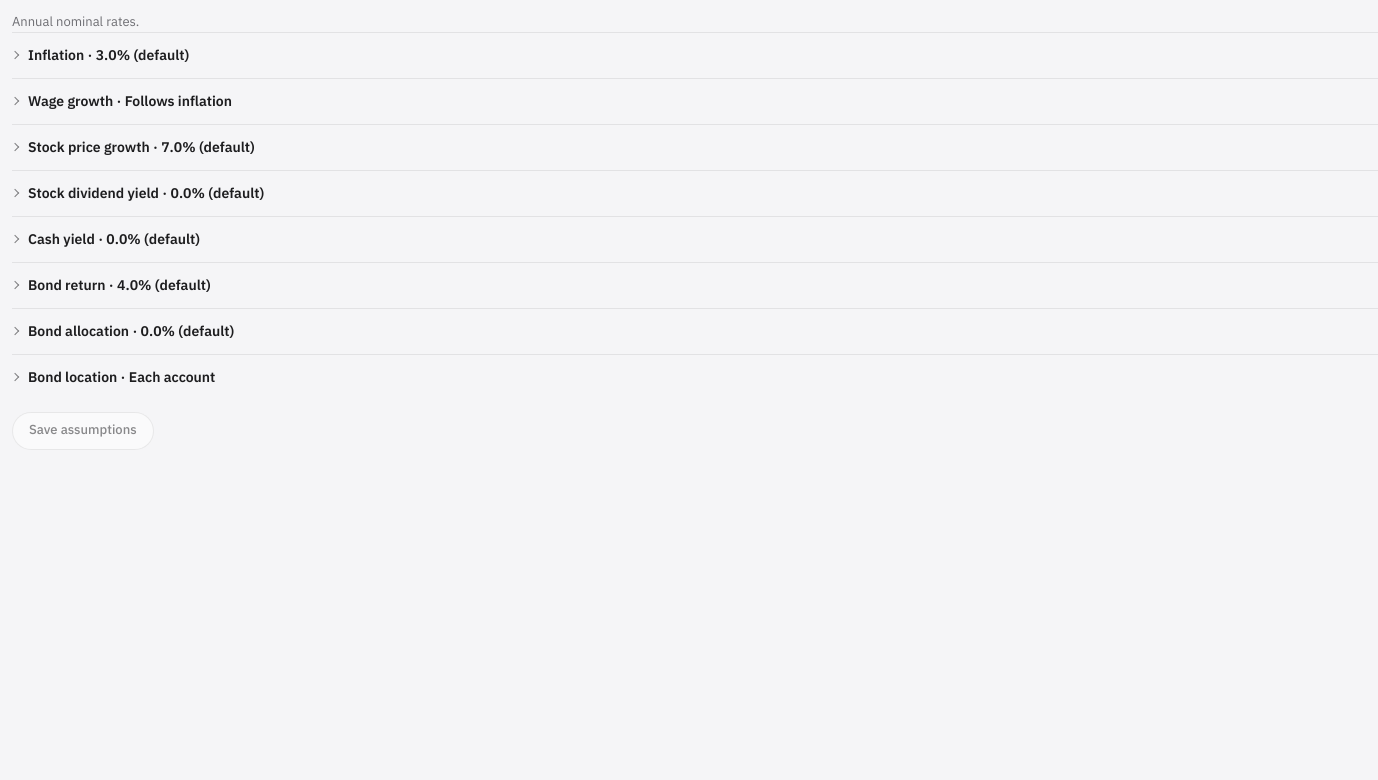
Test case: saves nothing while a collapsed row is invalid, and opens that row to show why
Click the heading "Stock price growth · 7.0% (default)". click: (141,146)
box: [28,138,255,156]
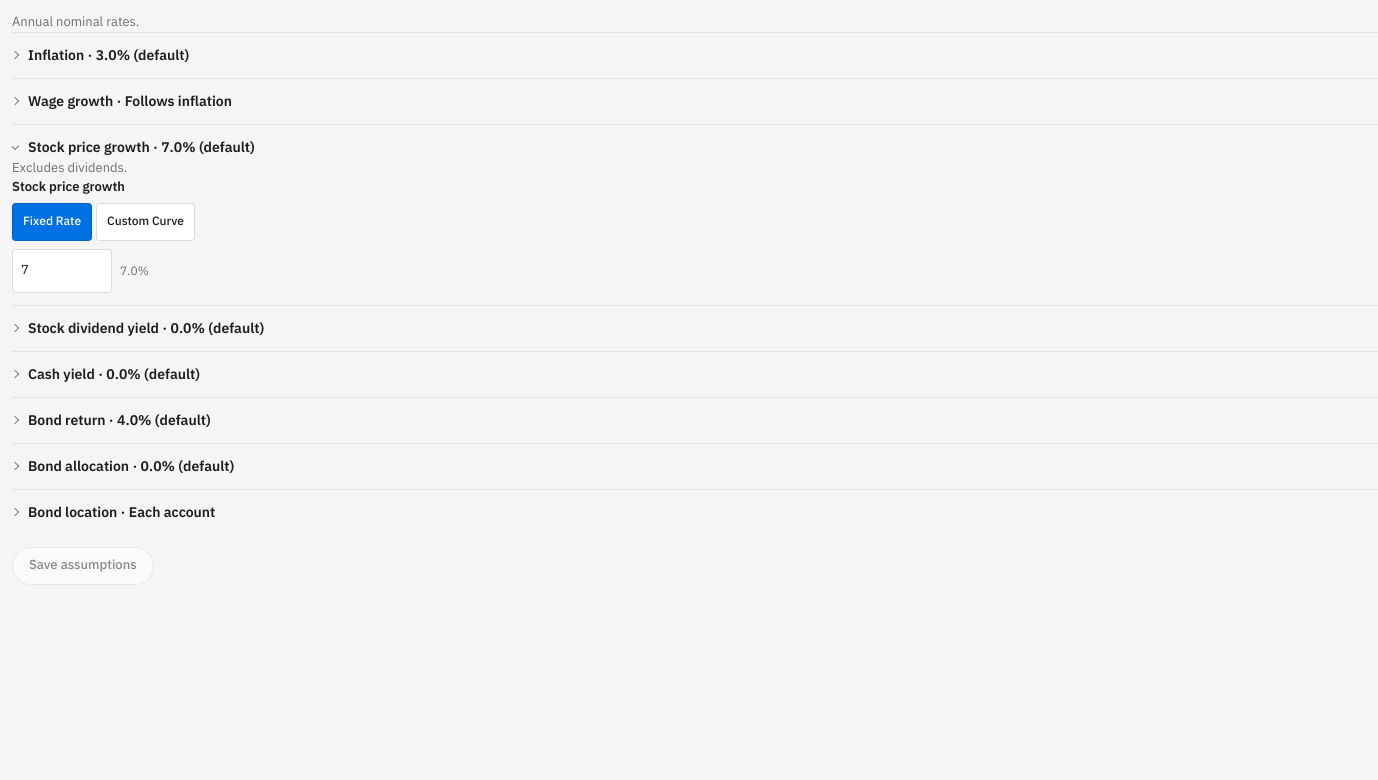
Replace the text in the number field named "Stock price growth percent" with "500". click: (62,270)
box: [12,248,112,292]
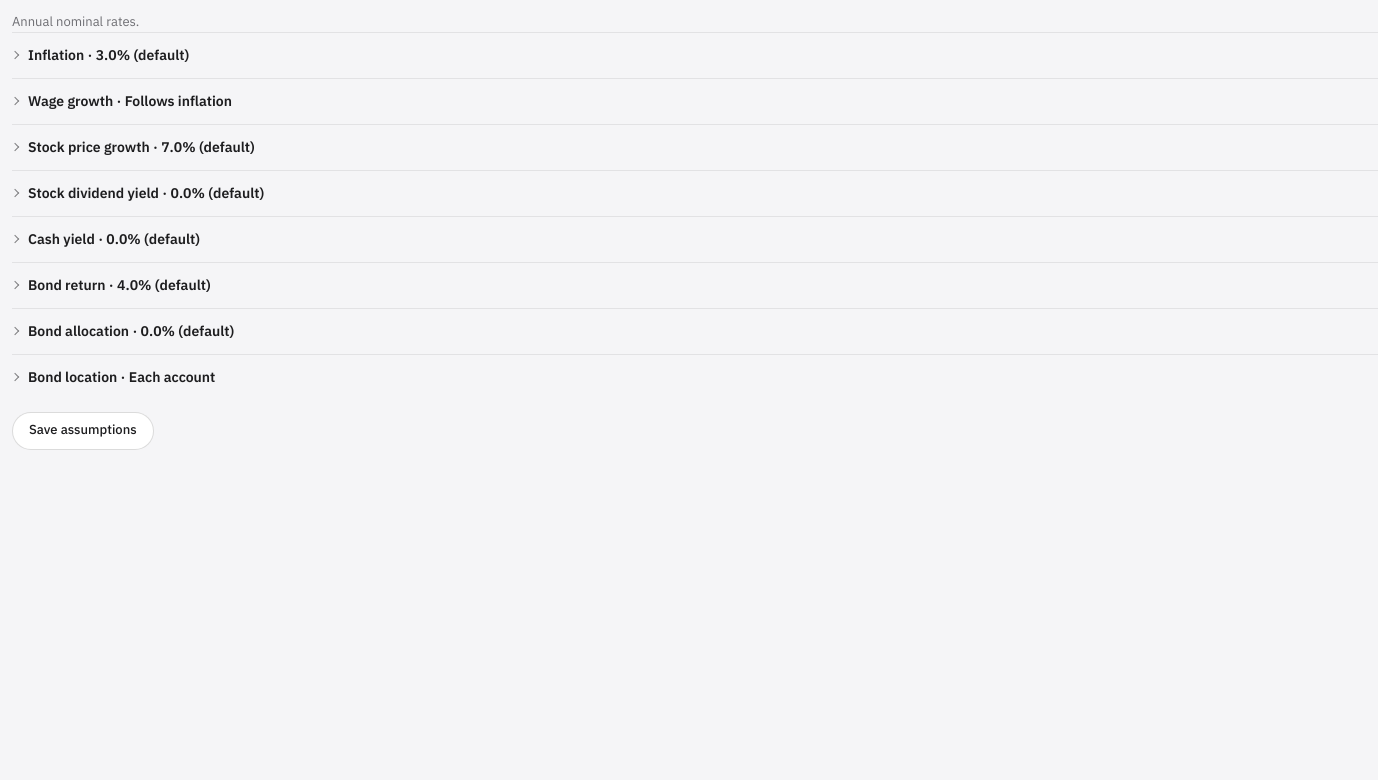
Click the heading "Inflation · 3.0% (default)". click: (109,54)
box: [28,46,189,64]
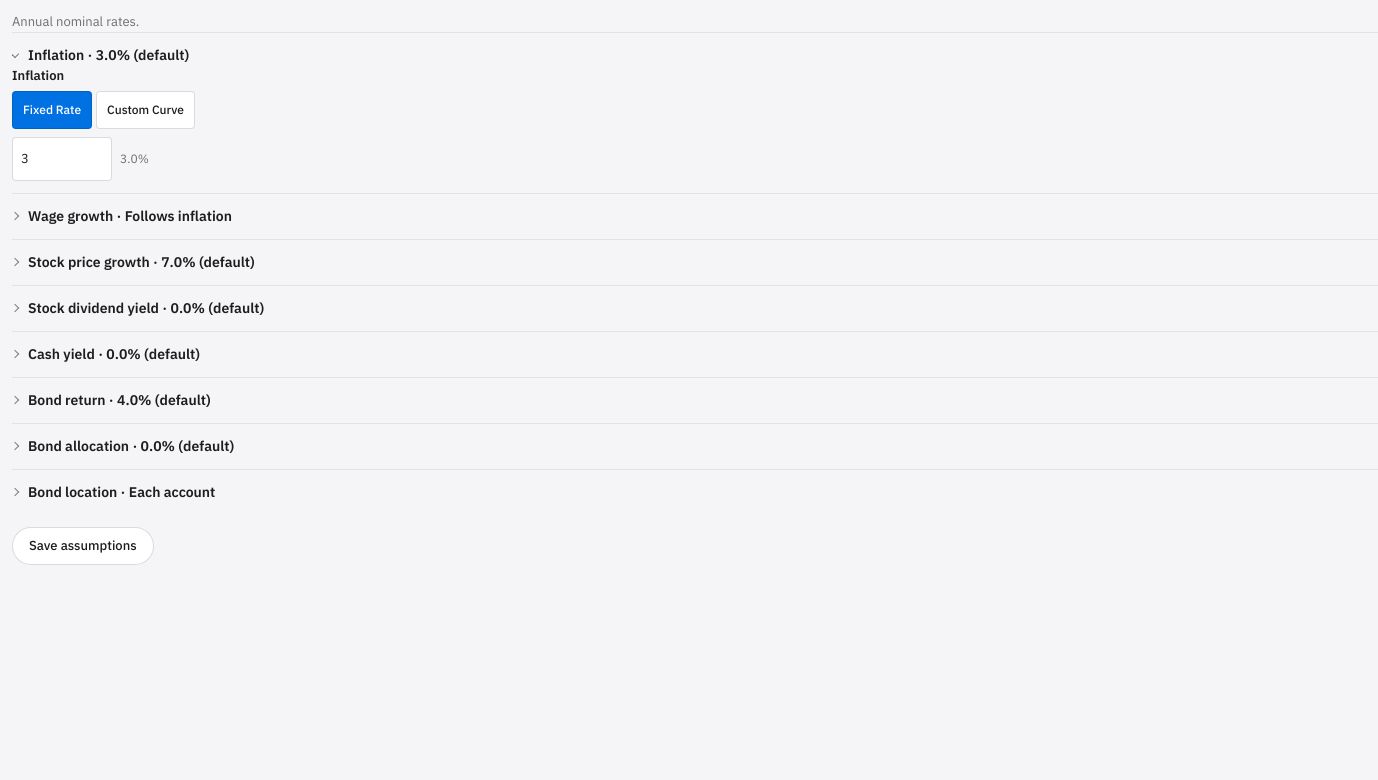
Replace the text in the number field named "Inflation percent" with "60". click: (62,159)
box: [12,137,112,181]
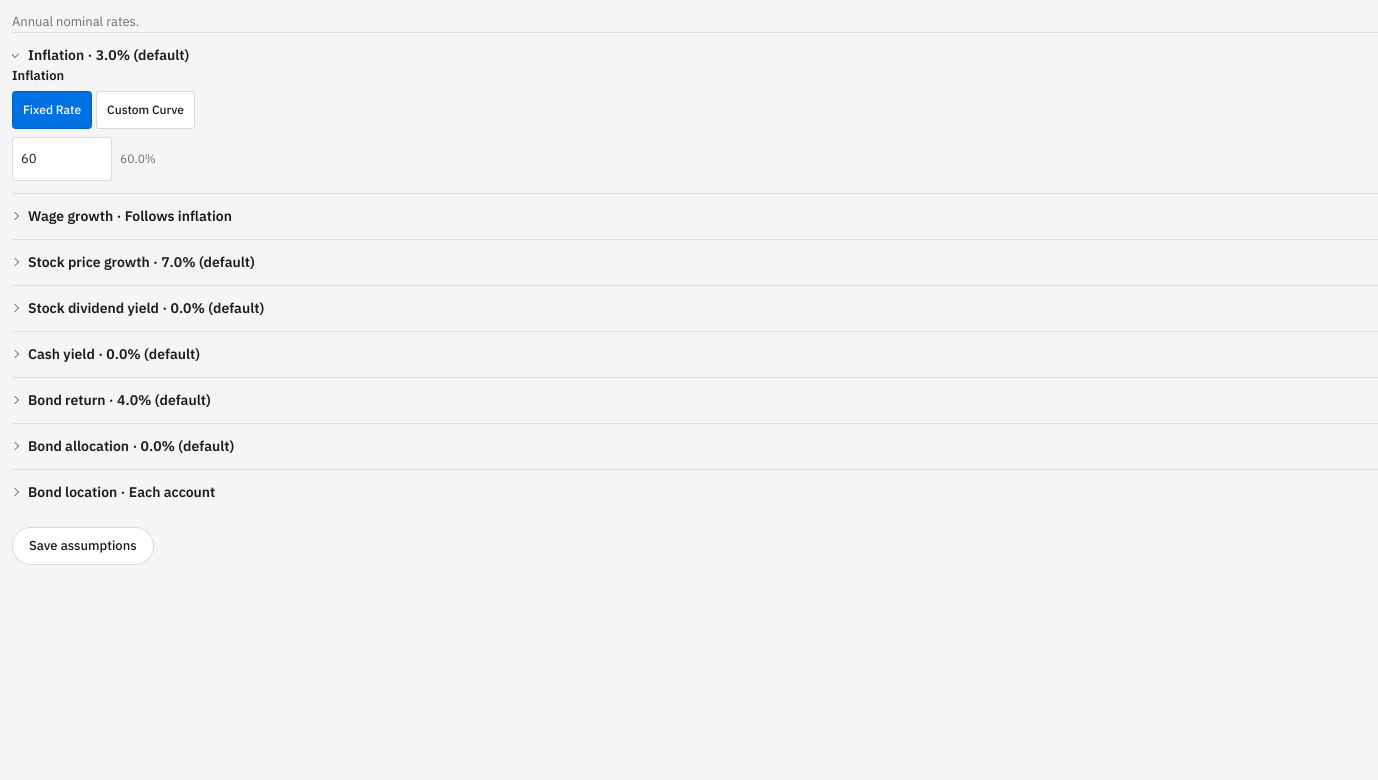
Click the button "Save assumptions". click: (83,546)
box: [12,527,154,565]
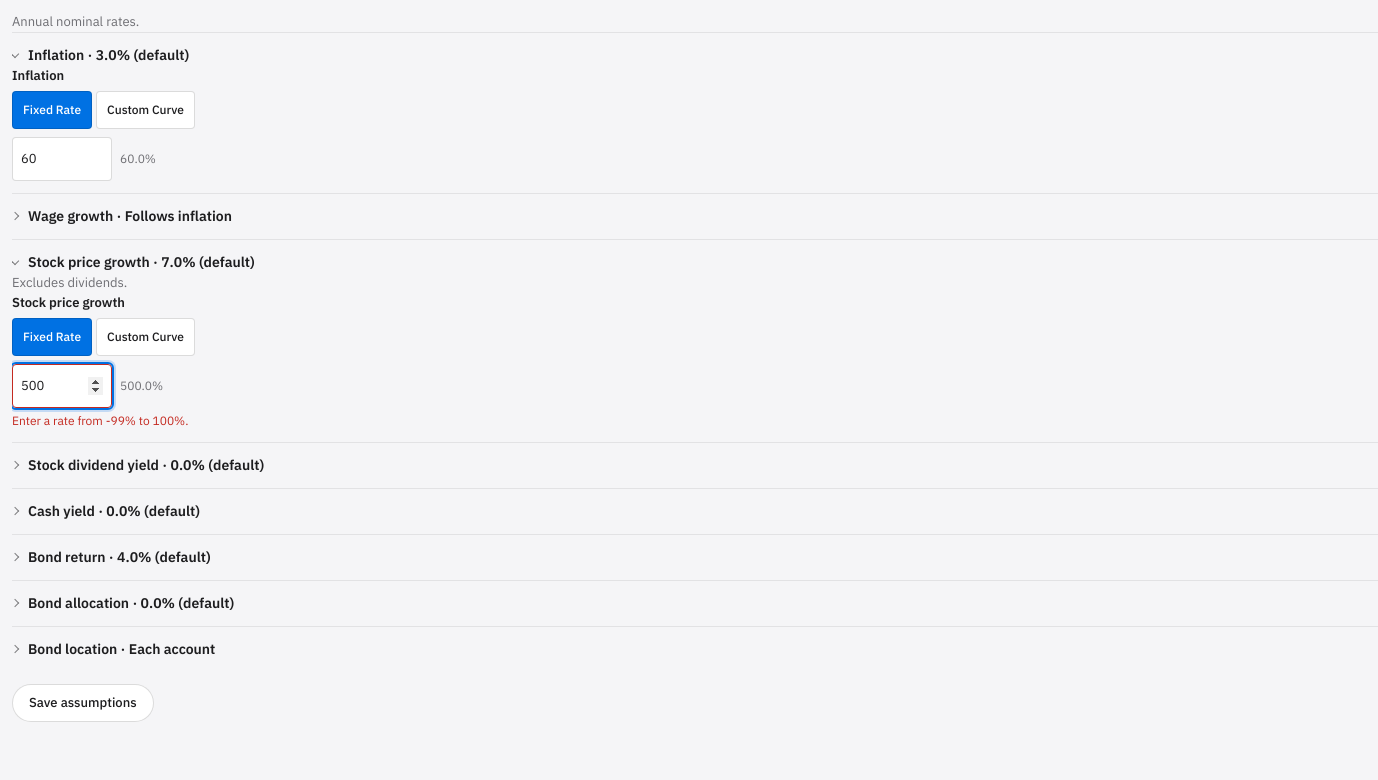
Result: the message reads "Enter a rate from -99% to 100%." at [12,413,188,428]
